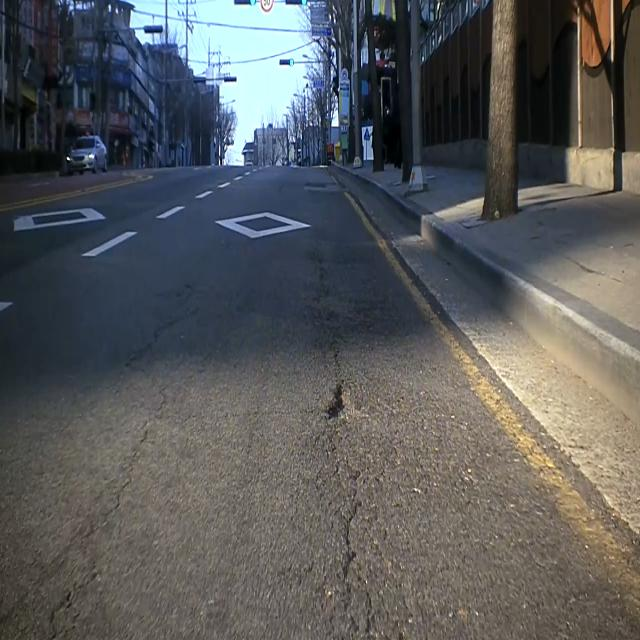Pothole: (320, 376, 381, 439)
